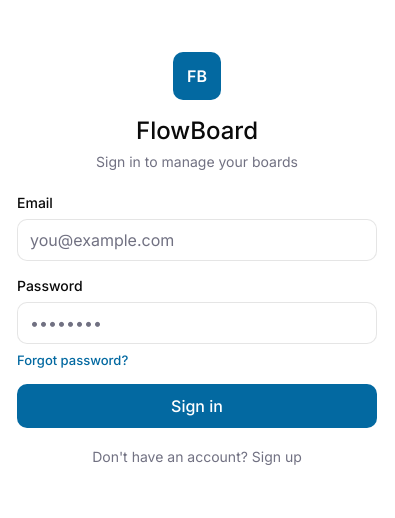
it: AuthScreen › sign-up without a session asks to confirm email and allows resending
The image size is (395, 518).
Click the button "Don't have an account? Sign up".
click(197, 456)  # box [92, 448, 302, 464]
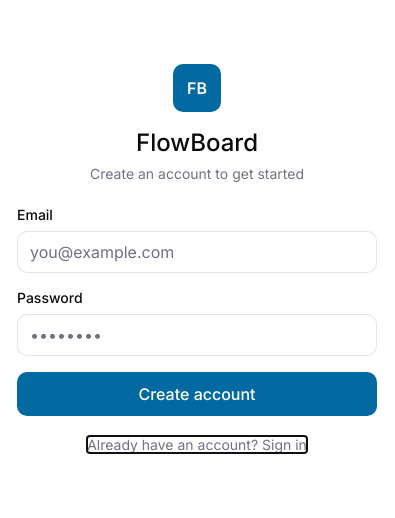
Type "new@b.co" into the field labelled "Email".
click(197, 252); type("new@b.co")  # box [17, 230, 377, 272]
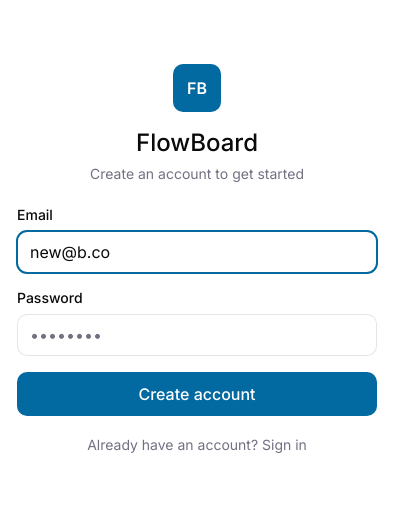
Type "secret1" into the password field labelled "Password".
click(197, 334); type("secret1")  # box [17, 314, 377, 356]
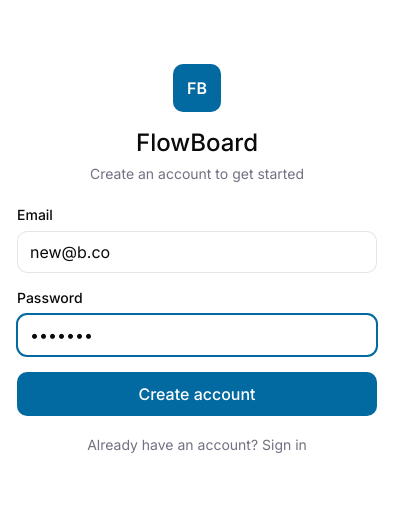
Click the button "Create account".
click(197, 394)  # box [17, 372, 377, 416]
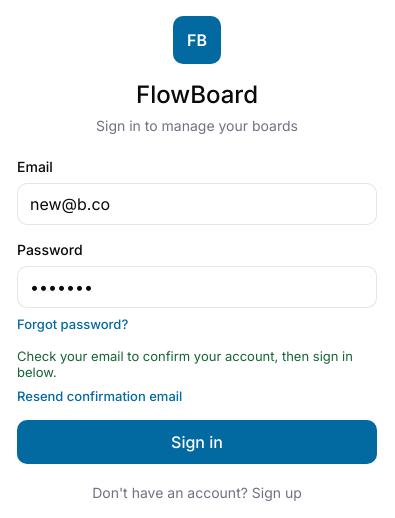
Result: the text "Check your email to confirm" is shown at [17, 348, 353, 380]
Click the button "Resend confirmation email".
click(100, 396)  # box [17, 388, 182, 404]
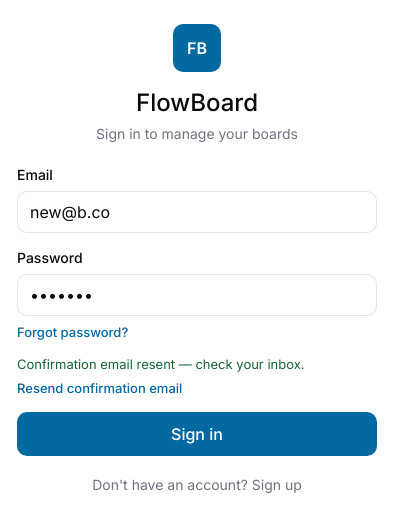
Result: the text "Confirmation email resent — check your inbox." is shown at [17, 356, 304, 372]
